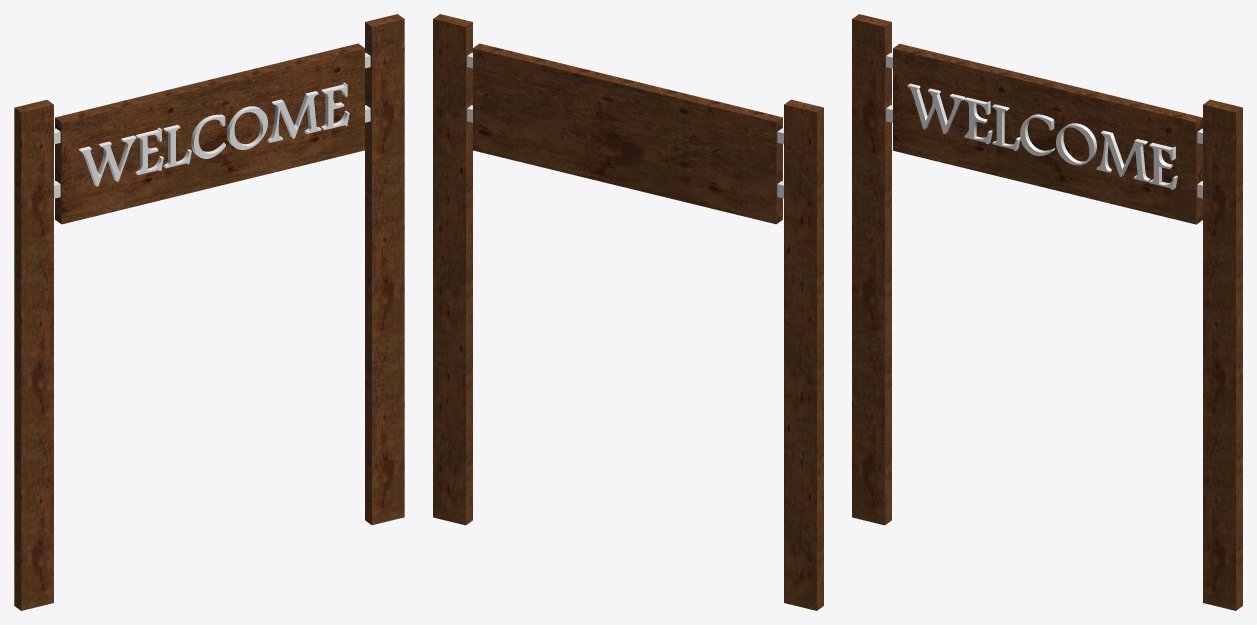
File: gltfWelcome.gltf
3 views of the same model, side by side, from view 1: azimuth 30°, elevation 25°; view 2: azimuth 150°, elevation 25°; view 3: azimuth 330°, elevation 25° (orthographic).
Visible parts, largest first — view 1: objWelcome; view 2: objWelcome; view 3: objWelcome.
Part boxes in pixels (x1=…): objWelcome: x1=14, y1=14, x2=404, y2=610; objWelcome: x1=433, y1=14, x2=823, y2=610; objWelcome: x1=852, y1=14, x2=1242, y2=610.
Bounding box in the file's own units: 8.82 × 10.95 × 0.3984.
Materials: 2 (1 with a texture image).
